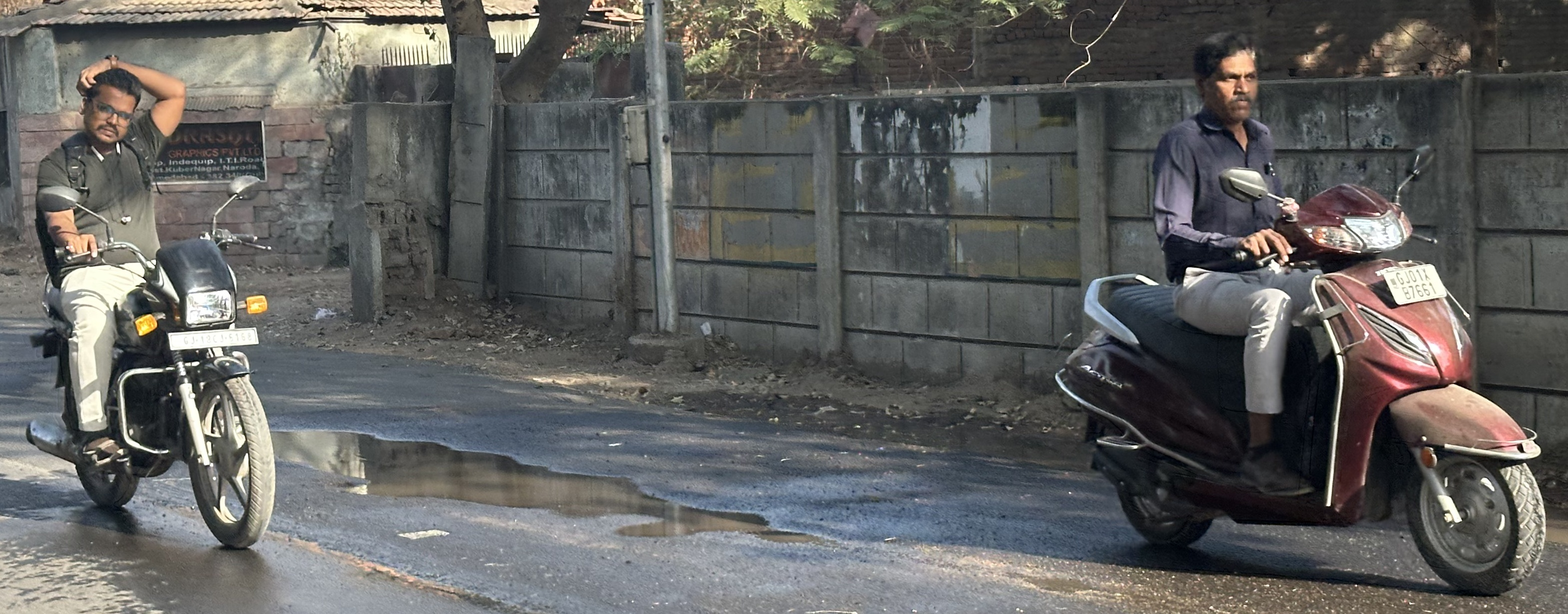BikeWithRider: (1041, 23, 1555, 603), (13, 46, 289, 560)
NoHelmet: (1176, 23, 1277, 127), (70, 65, 150, 155)
